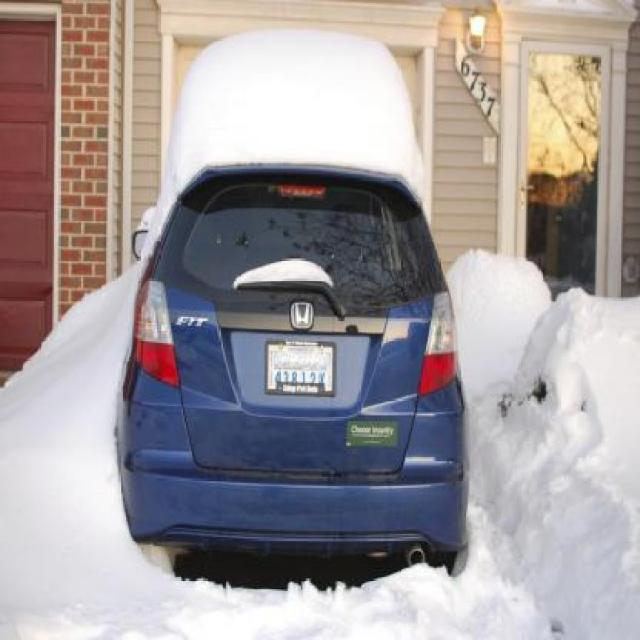License-Plates: (266, 339, 336, 397)
